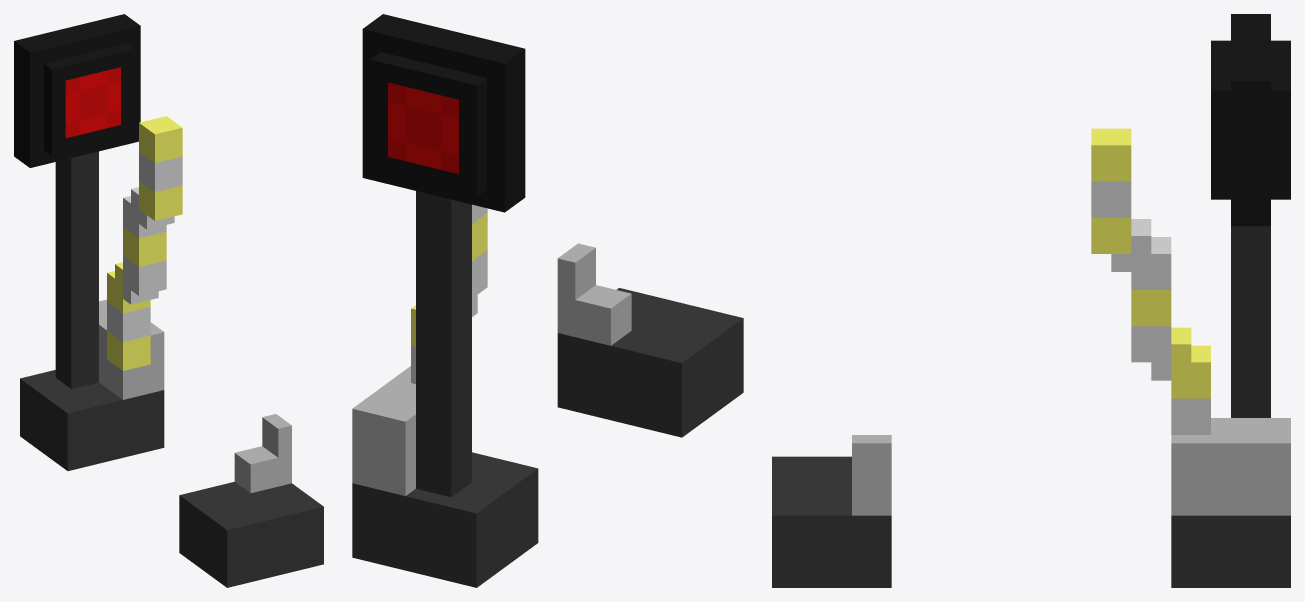
The model's file is ampel closed 1.obj.
3 views of the same model, side by side, from view 1: azimuth 30°, elevation 25°; view 2: azimuth 150°, elevation 25°; view 3: azimuth 270°, elevation 25° (orthographic). The views are drawn at different scales.
Bounding box in the file's own units: 0.8 × 2.8 × 2.6.
Materials: 1 (1 with a texture image).
